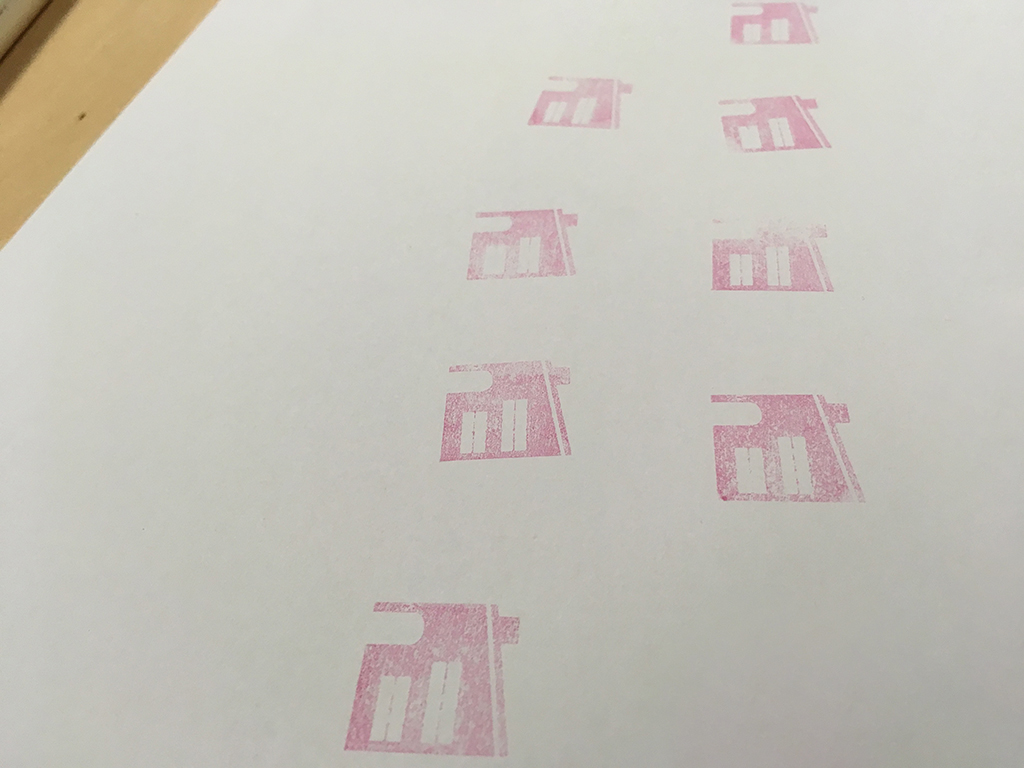house: (342, 587, 528, 766), (696, 385, 874, 512), (429, 354, 583, 472), (706, 209, 841, 301), (456, 199, 586, 286), (707, 86, 841, 157), (520, 66, 642, 143), (724, 1, 837, 59)
